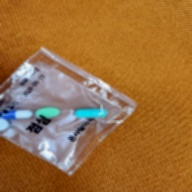러키펜정: (0, 118, 10, 132)
씨엠지세파클러캡슐: (0, 110, 33, 121)
에르도캡슐: (73, 108, 108, 119)
휴티렌정: (35, 107, 61, 120)
